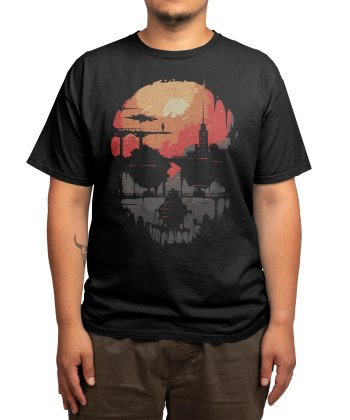design: (108, 76, 240, 249)
